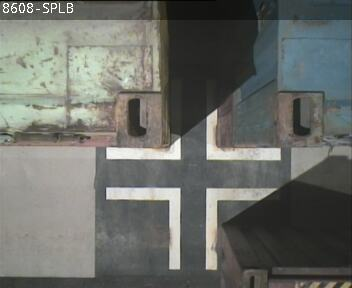groundmarker_1: (105, 186, 280, 269), (104, 81, 281, 159)
